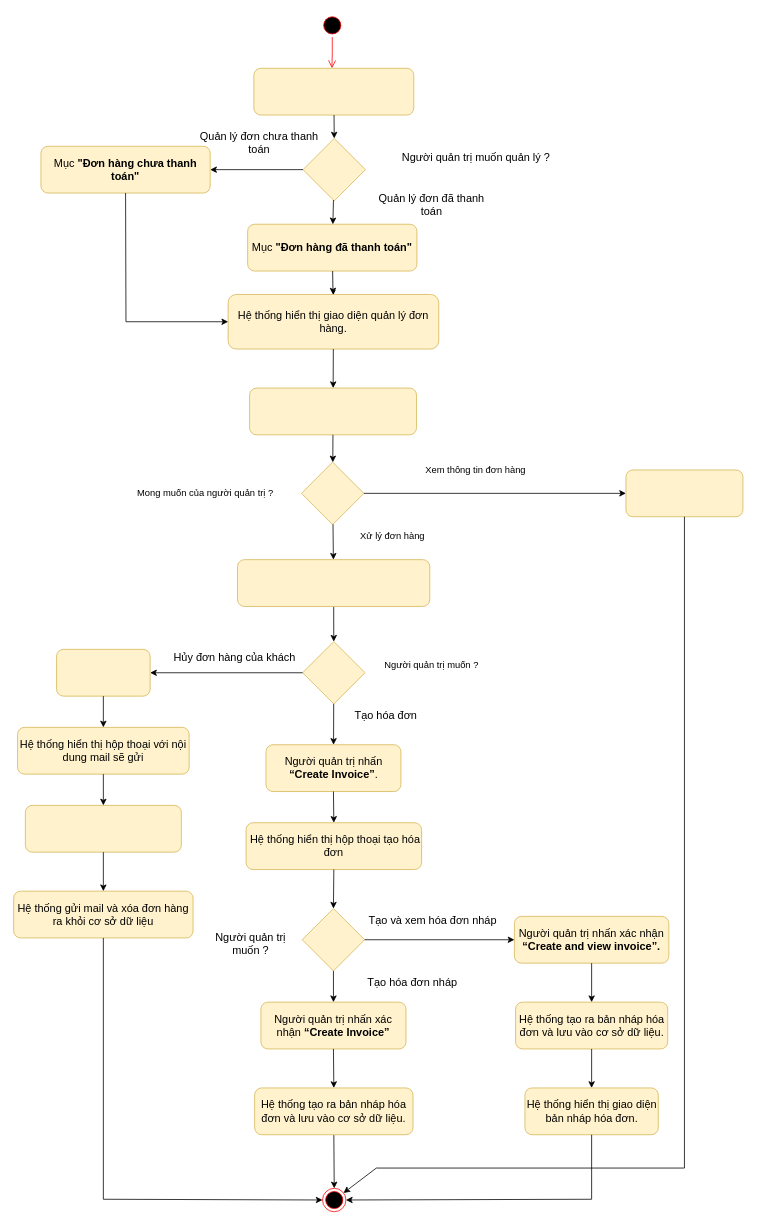
The diagram is 757 pixels wide and 1225 high, and some of its shapes have lost their labels. The shapes that lost their labels are listed below. From the top down, each one's box as (x1, y1, x2, y2) in pixels, then its label:
(253, 67, 414, 115): Người quản trị chọn mục “Thương mại điện tử”
(249, 387, 417, 435): Người quản trị chọn đơn hàng .
(625, 469, 743, 517): Hệ thông hiển thị thông tin chi tiết đơn hàng.
(237, 559, 430, 606): Hệ thông hiển thị thông tin chi tiêt đơn hàng cùng với công cụ xử lý đơn hàng
(56, 649, 150, 696): Người quản trị nhấn “Cancel”
(25, 805, 181, 852): Người quản trị nhấn xác nhận “Send and cancel”
